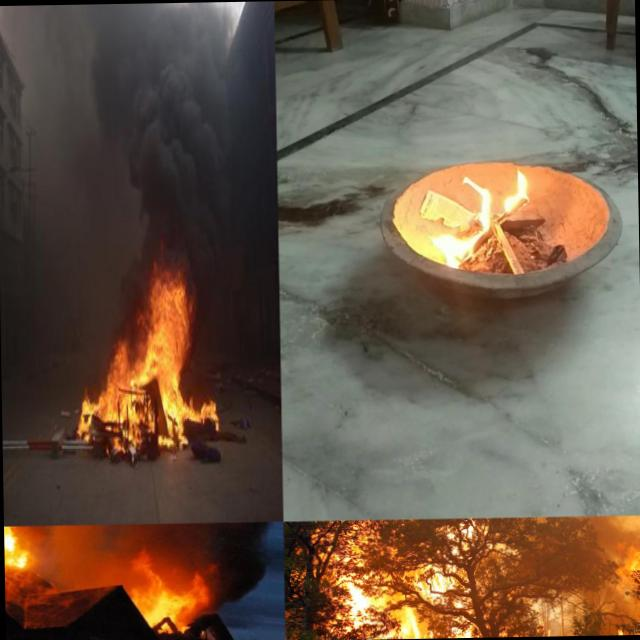fire: (78, 279, 222, 435), (412, 160, 546, 283), (110, 542, 208, 638), (607, 522, 640, 612), (371, 600, 432, 639), (4, 526, 38, 568)
smoke: (136, 1, 262, 280), (84, 3, 139, 192), (0, 5, 86, 114)
